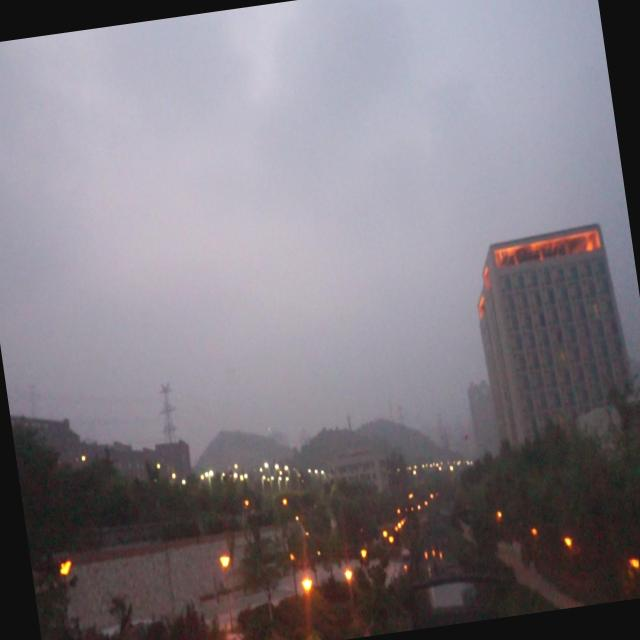drone: (459, 428, 471, 445)
